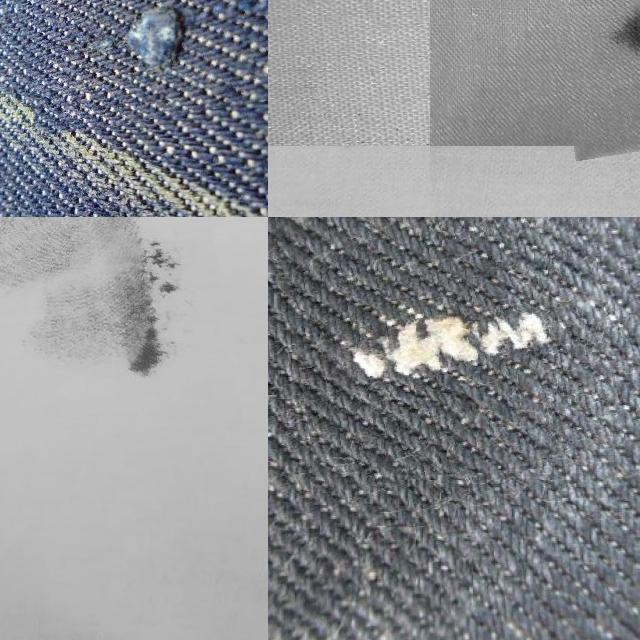Thread_other: (0, 217, 231, 462), (0, 574, 221, 640), (546, 0, 640, 153)
stains: (283, 217, 615, 481), (16, 0, 268, 121)
